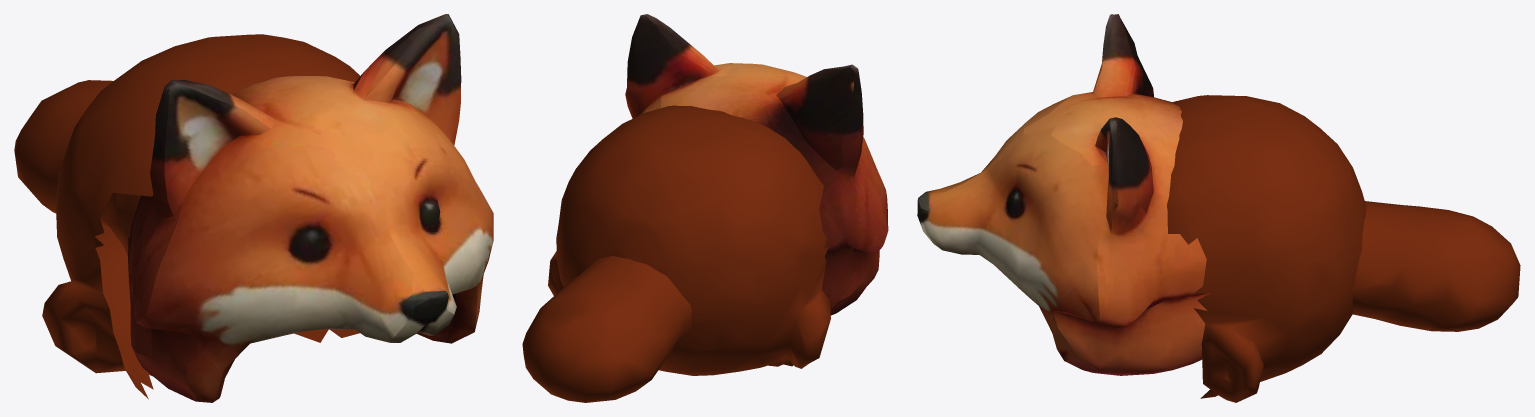
Rendered from red-fox.glb.
3 views of the same model, side by side, from view 1: azimuth 30°, elevation 25°; view 2: azimuth 150°, elevation 25°; view 3: azimuth 270°, elevation 25° (orthographic). The views are drawn at different scales.
Visible parts, largest first — view 1: geometry_0, HoodAnatomicalLining; view 2: HoodAnatomicalLining, geometry_0; view 3: geometry_0, HoodAnatomicalLining.
Boxes of the visible parts, <box> form: geometry_0: <box>14,14,493,402</box>; HoodAnatomicalLining: <box>42,34,359,399</box>; HoodAnatomicalLining: <box>548,105,830,375</box>; geometry_0: <box>522,14,888,402</box>; geometry_0: <box>917,14,1520,375</box>; HoodAnatomicalLining: <box>1167,95,1366,402</box>.
Size of the model in its own units: 0.512 by 0.4917 by 0.9055.
2 materials, 1 textured.
